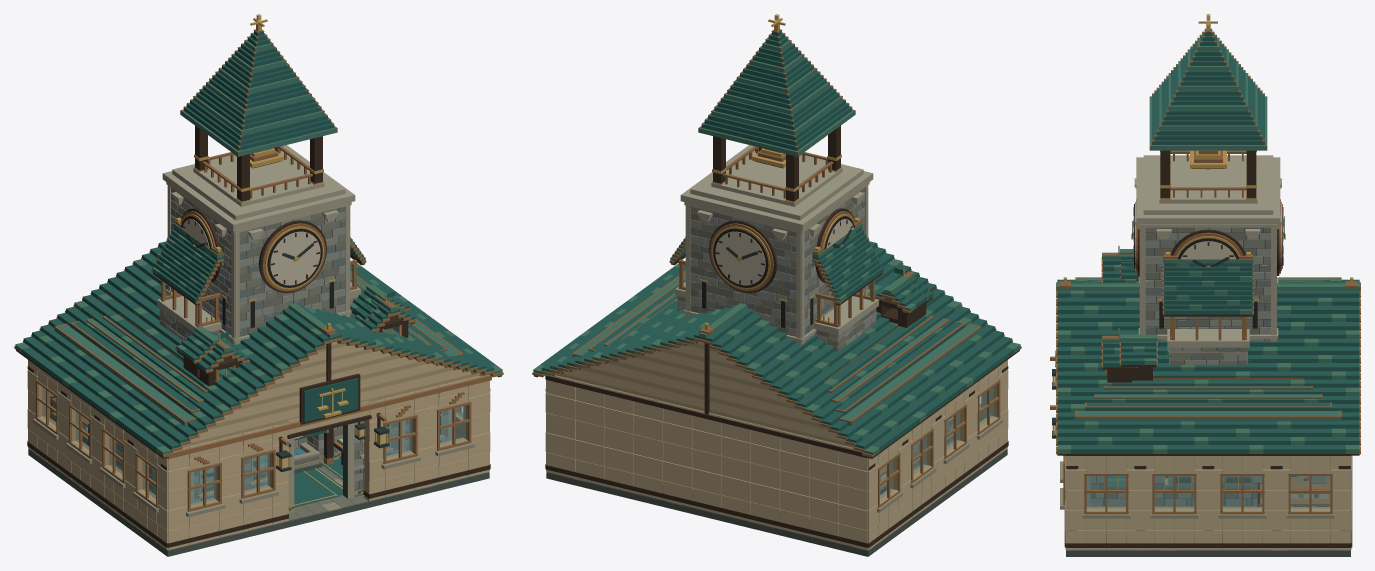
Rendered from city-kit.glb.
3 views of the same model, side by side, from view 1: azimuth 30°, elevation 25°; view 2: azimuth 150°, elevation 25°; view 3: azimuth 270°, elevation 25° (orthographic). The views are drawn at different scales.
Parts seen in each view (by area): view 1: city-auction-hall-shell-front, city-auction-hall-roof-shingles, city-clocktower-roof-shingles, city-auction-hall-shell-left, city-clocktower-roof-tower-shaft, city-clocktower-roof-bell-arcade, city-clocktower-roof-base-coping, city-clocktower-roof-clockfaces, city-auction-hall-interior-floor, city-clocktower-shell-front, city-gate-roof-shingles, city-auction-hall-shell-front-glass (+5 smaller); view 2: city-auction-hall-shell-back, city-auction-hall-roof-shingles, city-auction-hall-shell-left, city-clocktower-roof-shingles, city-clocktower-roof-tower-shaft, city-clocktower-roof-bell-arcade, city-clocktower-roof-base-coping, city-clocktower-roof-clockfaces, city-gate-roof-shingles, city-auction-hall-interior-floor, city-gate-shell-left, city-auction-hall-shell-left-glass; view 3: city-auction-hall-roof-shingles, city-auction-hall-shell-right, city-clocktower-roof-shingles, city-clocktower-roof-bell-arcade, city-clocktower-roof-base-coping, city-clocktower-roof-tower-shaft, city-gate-roof-shingles, city-auction-hall-shell-right-glass, city-gate-shell-right, city-clocktower-roof-clockfaces, city-clocktower-shell-right, city-auction-hall-interior-floor (+3 smaller).
Boxes of the visible parts, x1=… form: city-auction-hall-shell-front: x1=167, y1=341, x2=491, y2=549; city-auction-hall-roof-shingles: x1=14, y1=237, x2=503, y2=458; city-clocktower-roof-shingles: x1=180, y1=14, x2=416, y2=374; city-auction-hall-shell-left: x1=27, y1=360, x2=167, y2=549; city-clocktower-roof-tower-shaft: x1=166, y1=182, x2=351, y2=344; city-clocktower-roof-bell-arcade: x1=162, y1=125, x2=355, y2=230; city-clocktower-roof-base-coping: x1=54, y1=271, x2=463, y2=425; city-clocktower-roof-clockfaces: x1=171, y1=192, x2=338, y2=292; city-auction-hall-interior-floor: x1=28, y1=449, x2=489, y2=556; city-clocktower-shell-front: x1=190, y1=409, x2=452, y2=512; city-gate-roof-shingles: x1=151, y1=217, x2=366, y2=305; city-auction-hall-shell-front-glass: x1=191, y1=406, x2=465, y2=505; city-auction-hall-shell-back: x1=545, y1=341, x2=868, y2=549; city-auction-hall-roof-shingles: x1=532, y1=237, x2=1021, y2=458; city-auction-hall-shell-left: x1=868, y1=360, x2=1008, y2=549; city-clocktower-roof-shingles: x1=698, y1=14, x2=934, y2=310; city-clocktower-roof-tower-shaft: x1=684, y1=182, x2=869, y2=344; city-clocktower-roof-bell-arcade: x1=680, y1=125, x2=873, y2=230; city-clocktower-roof-base-coping: x1=572, y1=271, x2=981, y2=425; city-clocktower-roof-clockfaces: x1=697, y1=192, x2=864, y2=292; city-gate-roof-shingles: x1=669, y1=217, x2=884, y2=305; city-auction-hall-interior-floor: x1=546, y1=449, x2=1007, y2=556; city-gate-shell-left: x1=814, y1=280, x2=878, y2=351; city-auction-hall-shell-left-glass: x1=880, y1=387, x2=993, y2=498; city-auction-hall-roof-shingles: x1=1056, y1=249, x2=1360, y2=455; city-auction-hall-shell-right: x1=1066, y1=455, x2=1350, y2=550; city-clocktower-roof-shingles: x1=1101, y1=14, x2=1267, y2=382; city-clocktower-roof-bell-arcade: x1=1136, y1=150, x2=1280, y2=224; city-clocktower-roof-base-coping: x1=1075, y1=277, x2=1341, y2=421; city-clocktower-roof-tower-shaft: x1=1138, y1=224, x2=1278, y2=341; city-gate-roof-shingles: x1=1162, y1=252, x2=1253, y2=316; city-auction-hall-shell-right-glass: x1=1087, y1=476, x2=1329, y2=508; city-gate-shell-right: x1=1167, y1=316, x2=1249, y2=484; city-clocktower-roof-clockfaces: x1=1131, y1=178, x2=1285, y2=275; city-clocktower-shell-right: x1=1086, y1=476, x2=1330, y2=506; city-auction-hall-interior-floor: x1=1066, y1=550, x2=1350, y2=556.
Bounding box in the file's own units: 25.35 × 32.2 × 19.64.
